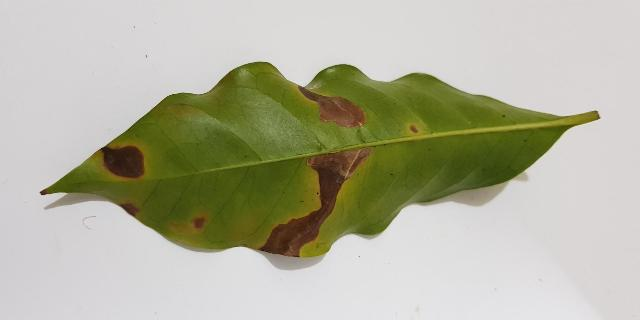cercospora: (258, 147, 372, 256), (298, 88, 366, 127), (99, 144, 145, 180), (180, 214, 207, 231), (120, 202, 139, 216), (408, 124, 421, 134)
